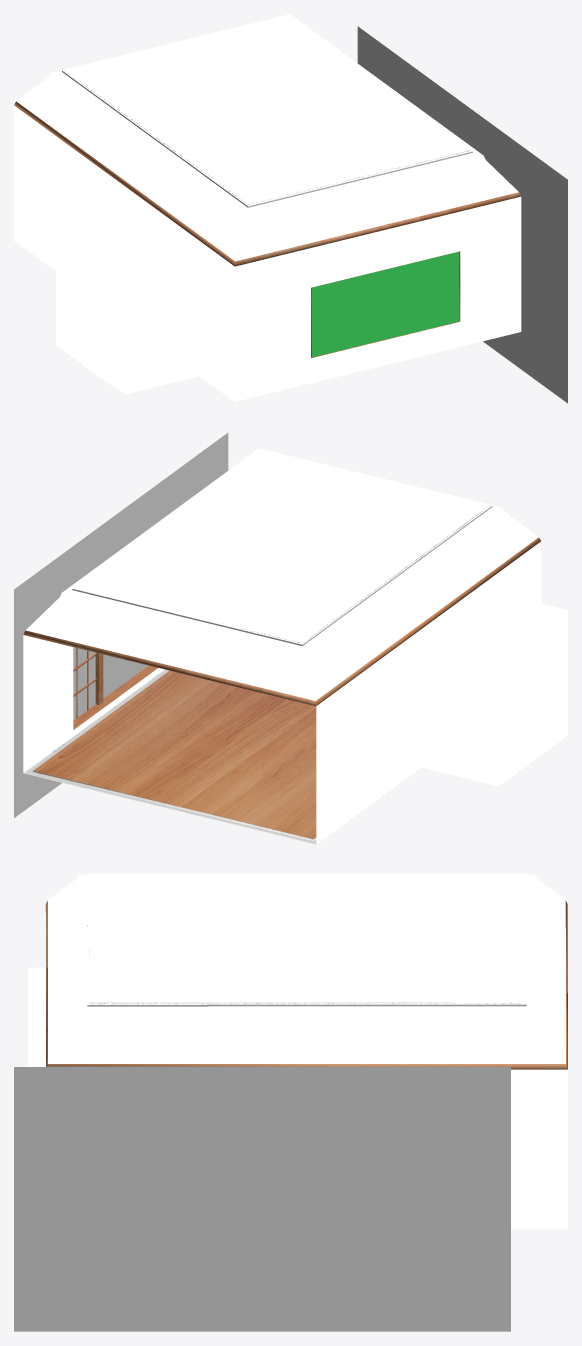
The model's file is SALA_.fbx.
The picture shows the model from 3 angles, top to bottom: view 1: azimuth 30°, elevation 25°; view 2: azimuth 150°, elevation 25°; view 3: azimuth 270°, elevation 25°; orthographic projection. The views are drawn at different scales.
Visible parts, largest first — view 1: Modern Living Room, Modern Living Room_Walls_0.001; view 2: Modern Living Room, Modern Living Room_Walls_0.001; view 3: Modern Living Room, Modern Living Room_Walls_0.001, Modern Living Room_Walls_0.002.
Part boxes in pixels (x1,y1,x2,y2): Modern Living Room: [14, 14, 567, 403]; Modern Living Room_Walls_0.001: [64, 15, 470, 203]; Modern Living Room: [14, 432, 567, 844]; Modern Living Room_Walls_0.001: [75, 449, 489, 642]; Modern Living Room: [14, 874, 567, 1331]; Modern Living Room_Walls_0.001: [89, 873, 524, 1001]; Modern Living Room_Walls_0.002: [89, 949, 518, 1004].
Size of the model in its own units: 33.02 by 34.49 by 20.06.
14 materials, 6 textured.
